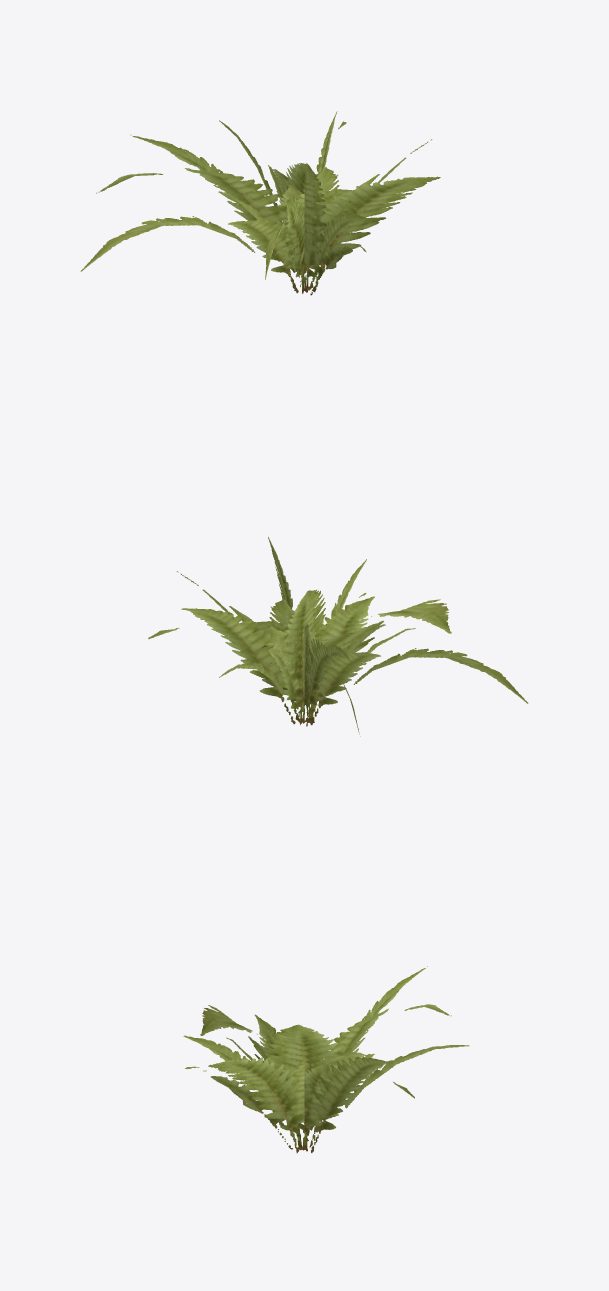
File: fern_medium_b_lod3_cross.gltf
3 renders of one model, top to bottom at view 1: azimuth 30°, elevation 25°; view 2: azimuth 150°, elevation 25°; view 3: azimuth 270°, elevation 25°, orthographic. The views are drawn at different scales.
Parts seen in each view (by area): view 1: fern_medium_b_LOD3; view 2: fern_medium_b_LOD3; view 3: fern_medium_b_LOD3.
Part boxes in pixels (left/top/right/bottom): fern_medium_b_LOD3: left=80, top=111, right=440, bottom=295; fern_medium_b_LOD3: left=148, top=537, right=528, bottom=736; fern_medium_b_LOD3: left=183, top=966, right=469, bottom=1152.
Size of the model in its own units: 2.1 by 0.6108 by 2.1.
Materials: 1 (1 with a texture image).
